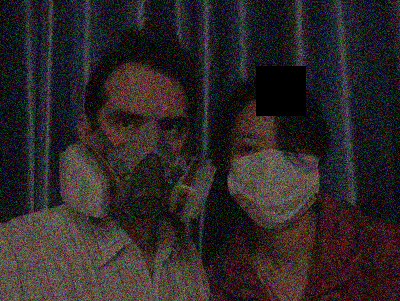with_mask: (92, 106, 191, 224), (227, 129, 321, 229)
